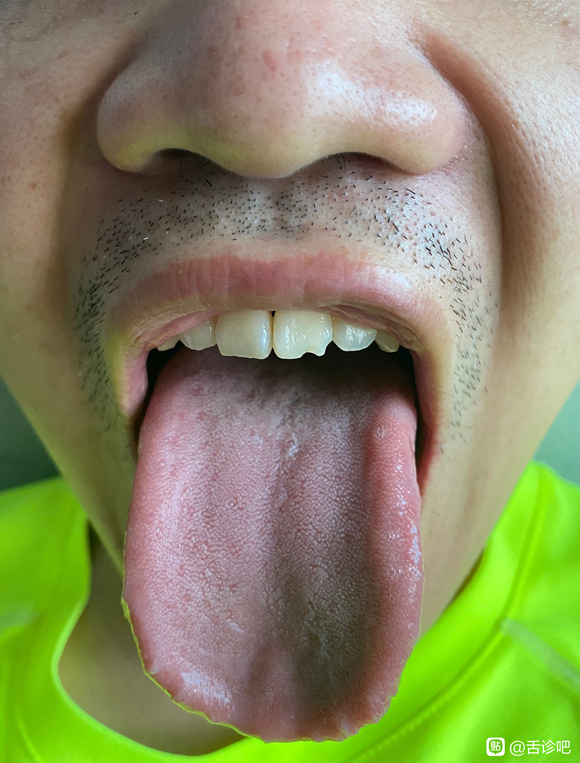baitaishe: (120, 346, 423, 743)
chihenshe: (119, 570, 182, 704)
